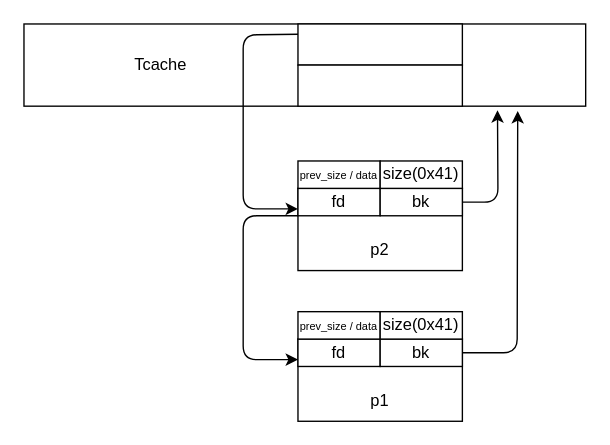
This 610x445 diagram has some shape labels left out. Here are the shapes that lost their labels. From the top down, the centre of each, then its label:
(379,44): 0x40 bin
(379,85): count: 2
